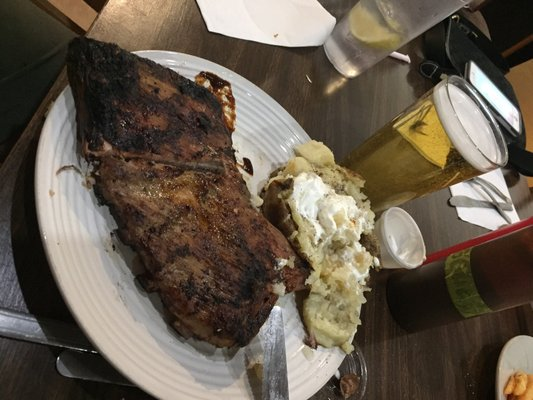pizza: (321, 0, 482, 79)
soup: (260, 138, 379, 355)
